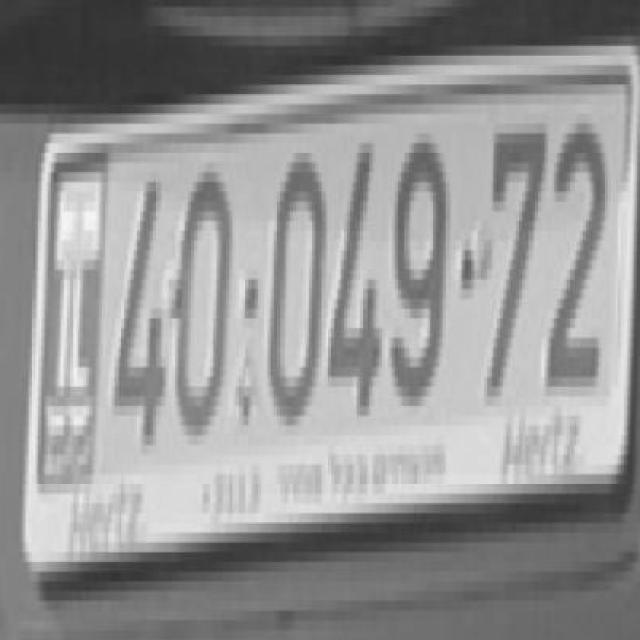licenseplate: (9, 24, 640, 591)
